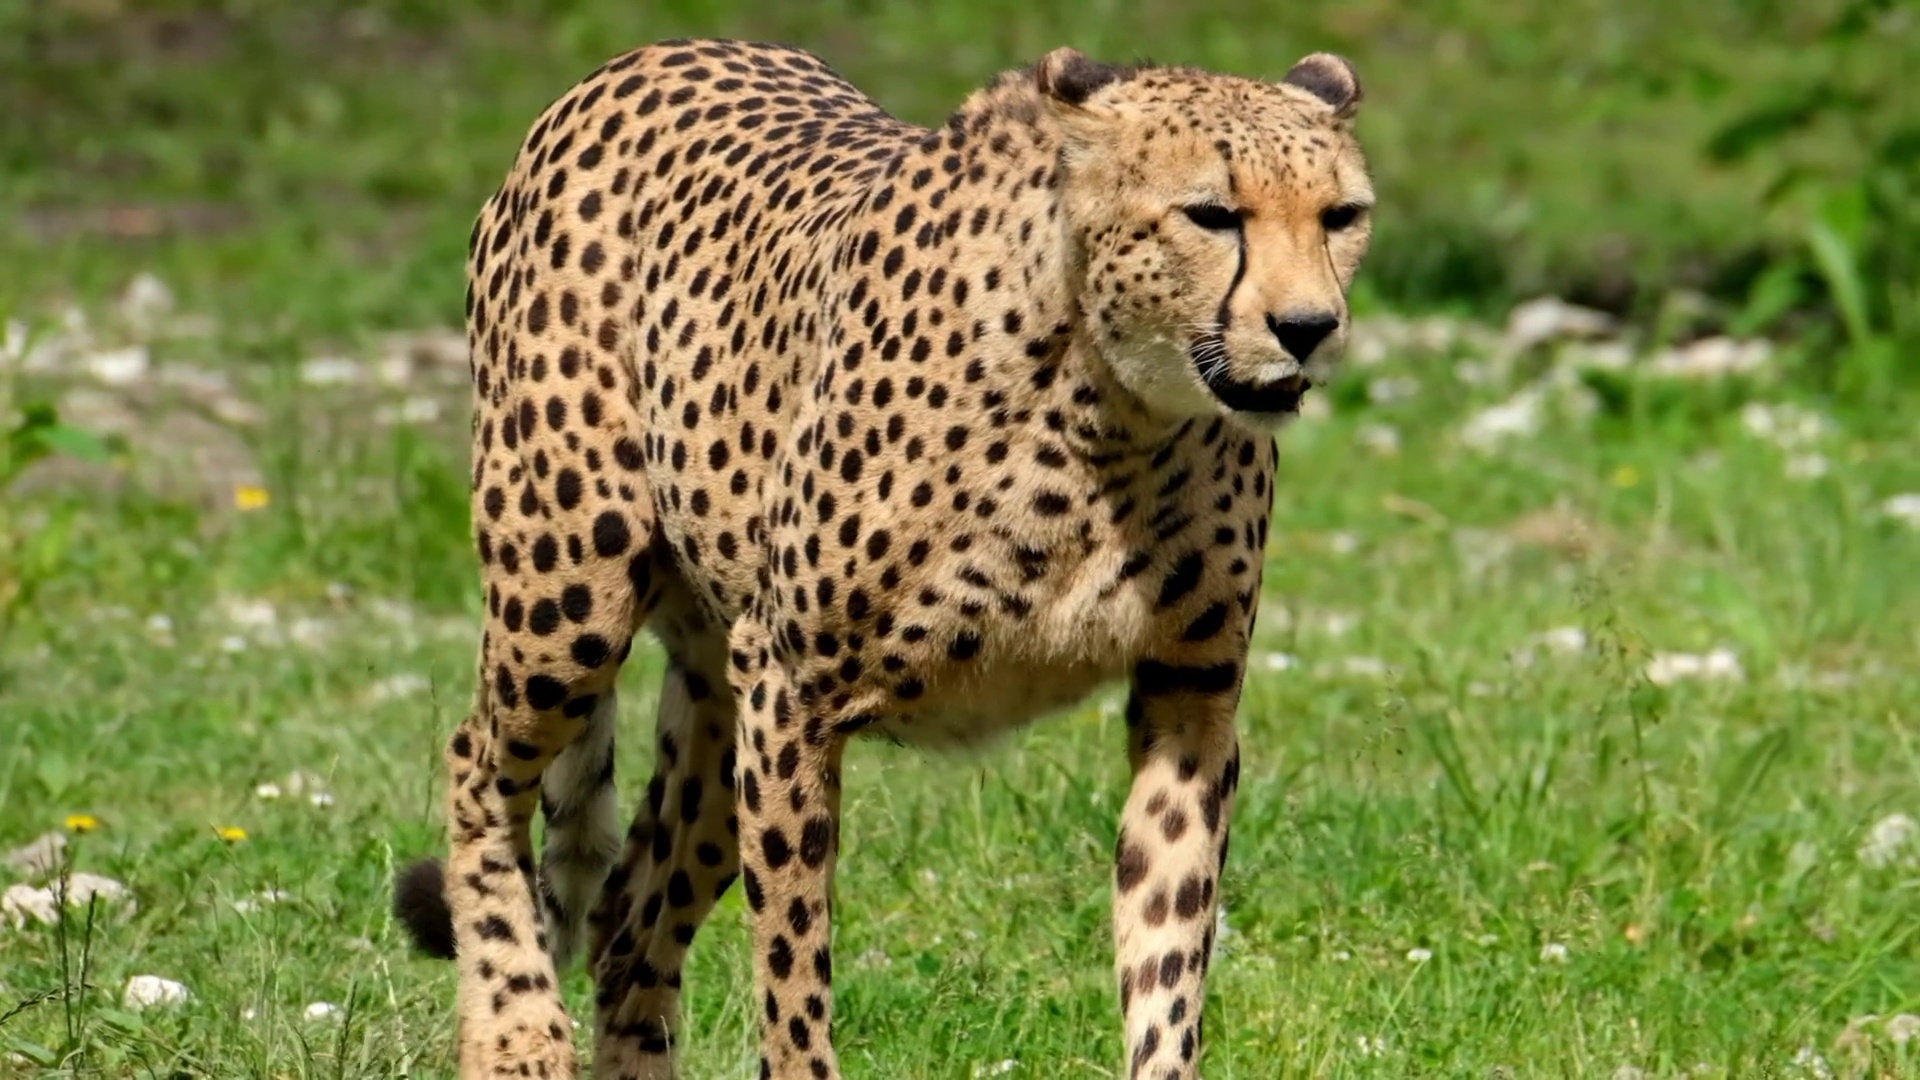Cheetah: (382, 30, 1377, 1080)
